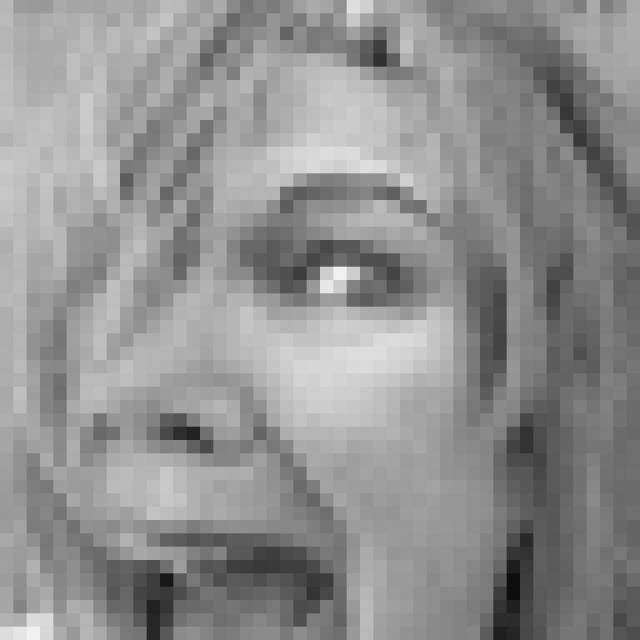fear: (68, 161, 479, 640)
